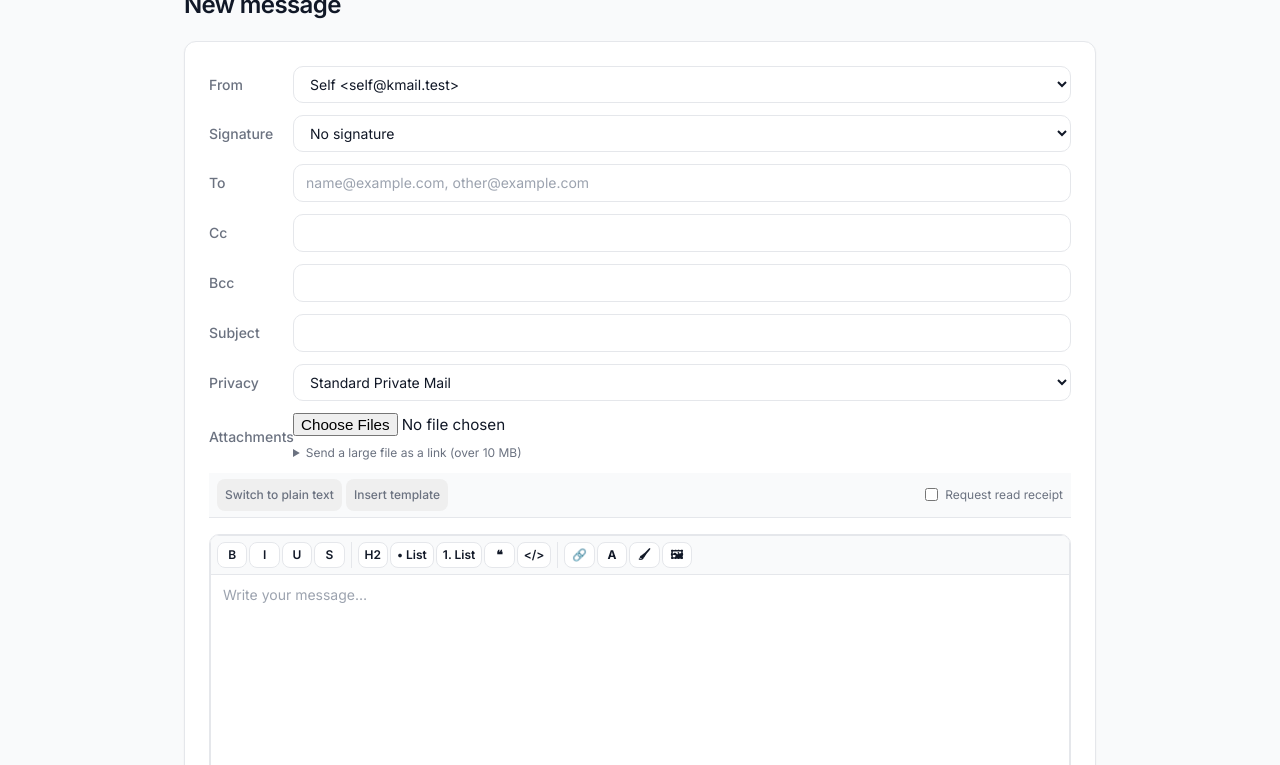
Test: <Compose /> › rejects a scheduled time that is in the past
The width and height of the screenshot is (1280, 765).
Type "alice@example.com" into the dropdown labelled "To" at {"x": 682, "y": 183}, box [293,164,1071,202]
(page scrolled)
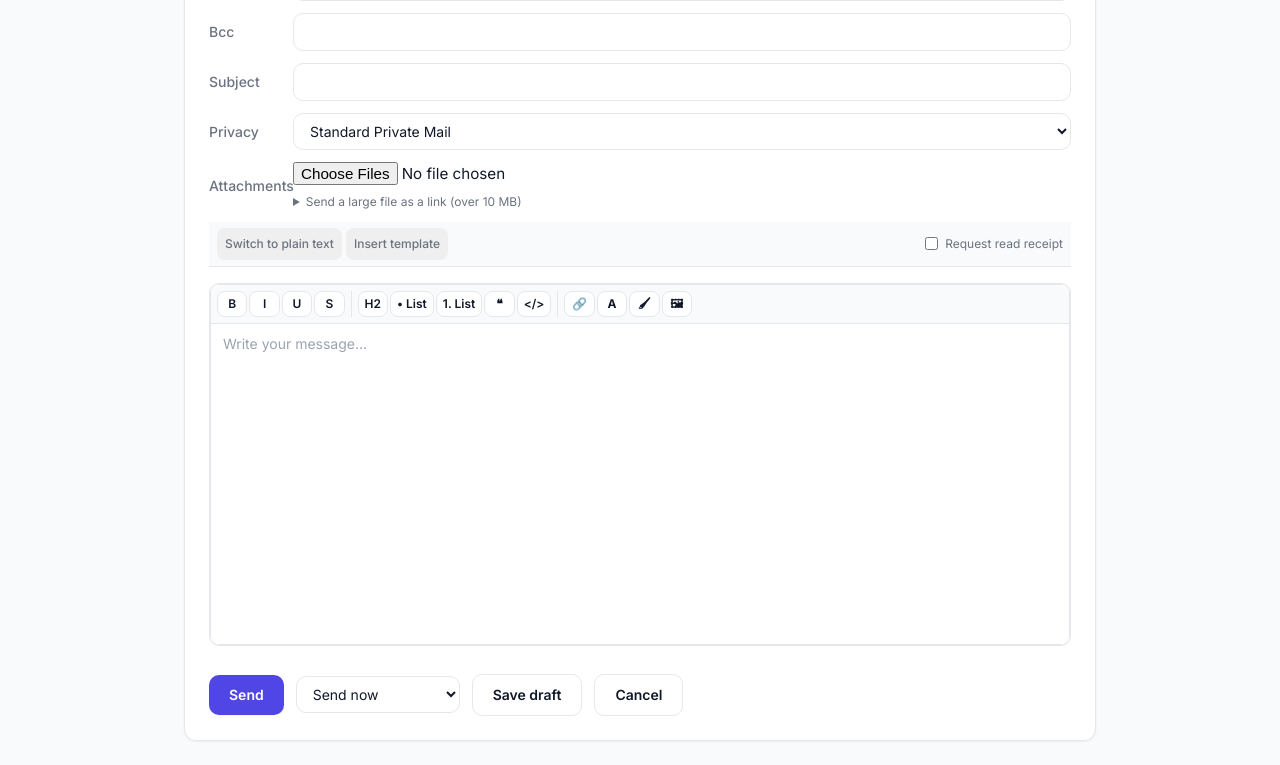
Select "Schedule for later" in the dropdown with test id "compose-send-mode" at {"x": 378, "y": 695}, box [296,676,460,713]
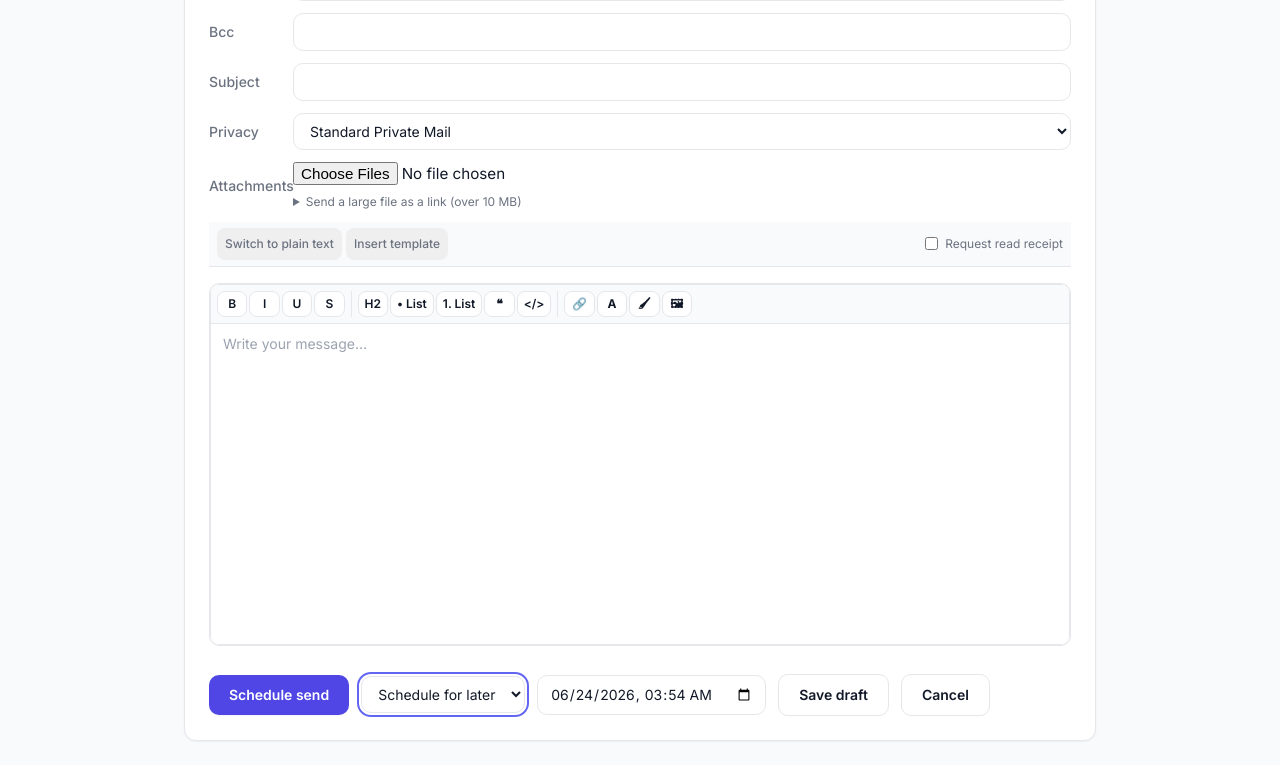
Replace the text in the field with test id "compose-schedule-at" with "2000-01-01T00:00" at {"x": 652, "y": 695}, box [537,675,766,715]
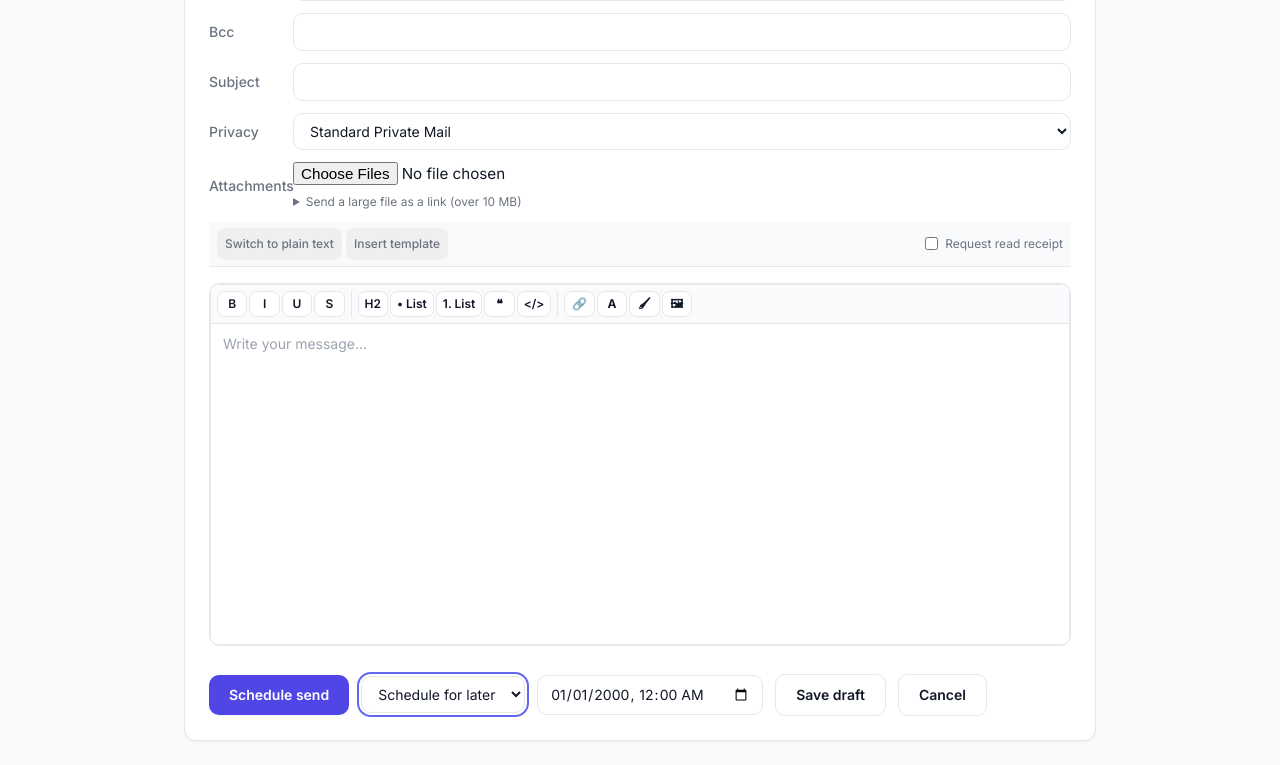
Click the button with test id "compose-send" at {"x": 279, "y": 695}, box [209,675,349,715]
(page scrolled)
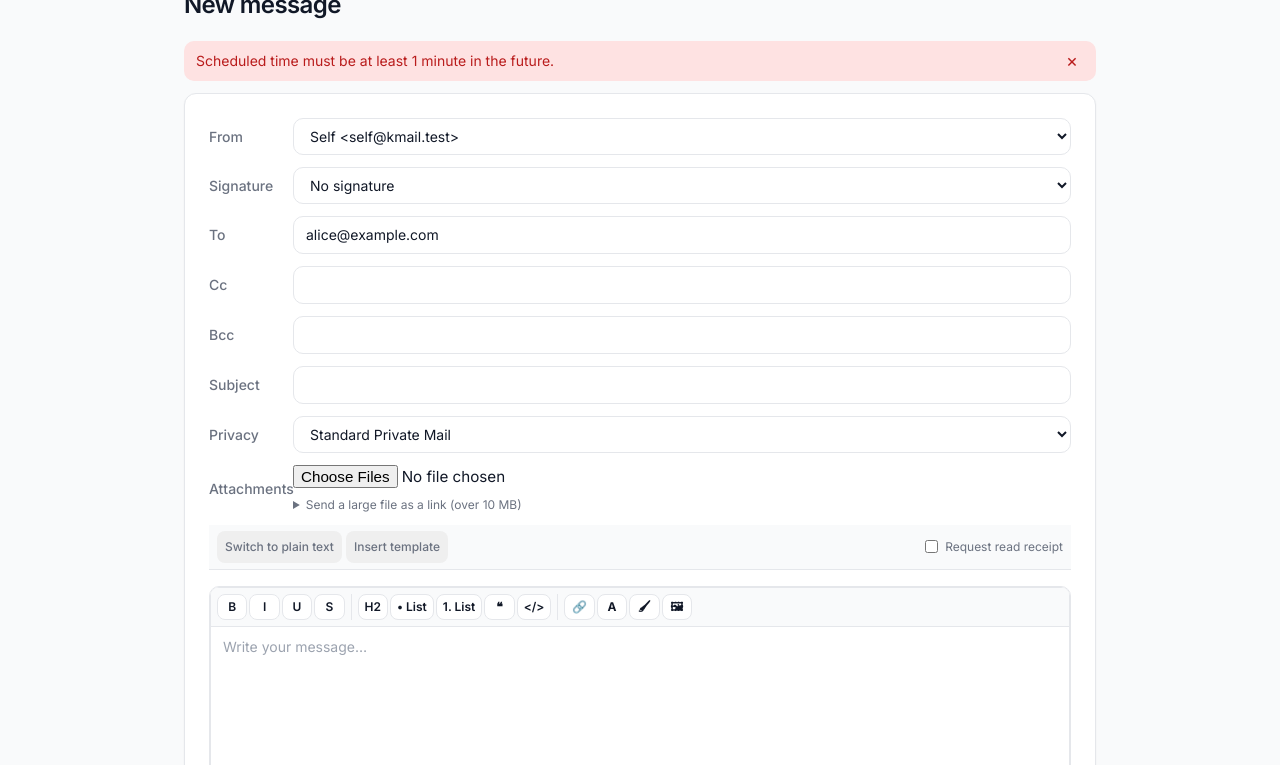
Result: the text "Scheduled time must be at least 1 minute in the future." is shown at [196,51,554,71]
